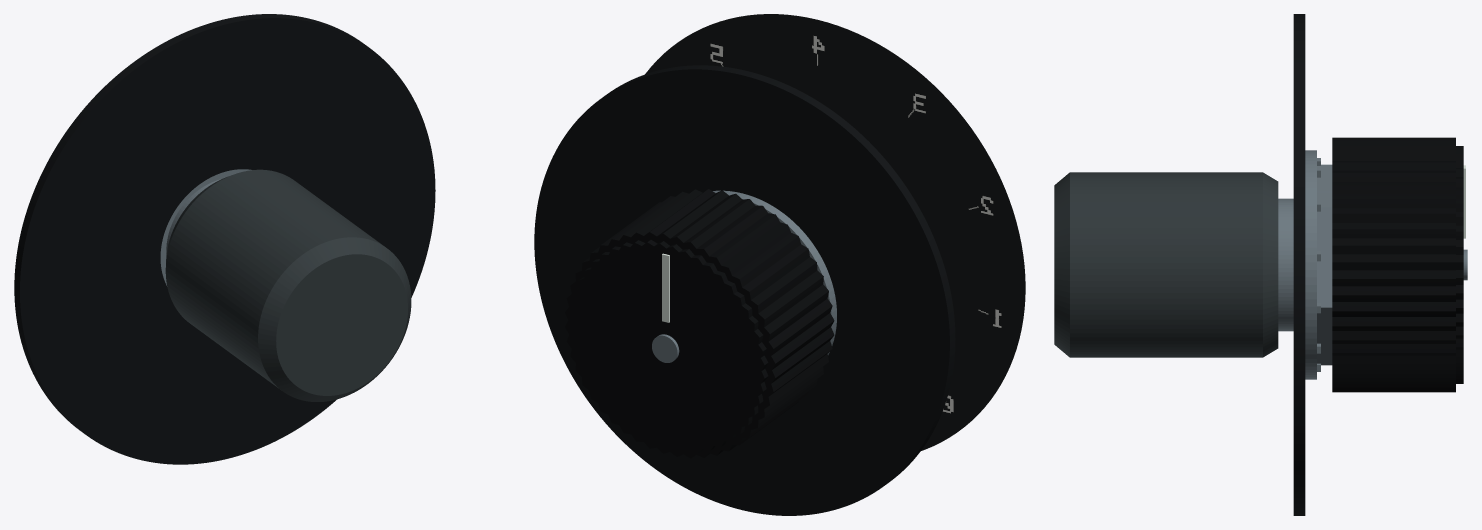
Rendered from MFDStudio.obj.
3 renders of one model, left to right at view 1: azimuth 30°, elevation 25°; view 2: azimuth 150°, elevation 25°; view 3: azimuth 270°, elevation 25°, orthographic. The views are drawn at different scales.
Visible parts, largest first — view 1: MFDStudioBase, MFDStudioBody, MFDStudioMount; view 2: MFDStudioBase, MFDStudioActuatorPlastic, MFDStudioScreen, MFDStudioMount, MFDStudioActuatorMetal; view 3: MFDStudioBody, MFDStudioActuatorPlastic, MFDStudioMount, MFDStudioBase.
Part boxes in pixels (box(x1,y1,x2,y2)): MFDStudioBase: box(14, 14, 435, 464); MFDStudioBody: box(165, 169, 411, 401); MFDStudioMount: box(160, 169, 251, 286); MFDStudioBase: box(534, 65, 955, 515); MFDStudioActuatorPlastic: box(565, 189, 834, 458); MFDStudioScreen: box(645, 14, 1025, 450); MFDStudioMount: box(713, 190, 836, 355); MFDStudioActuatorMetal: box(652, 334, 679, 362); MFDStudioBody: box(1054, 172, 1278, 357); MFDStudioActuatorPlastic: box(1332, 137, 1463, 392); MFDStudioMount: box(1278, 150, 1332, 379); MFDStudioBase: box(1293, 14, 1305, 515).
Bounding box in the file's own units: 0.065 × 0.065 × 0.0535.
Materials: 6 (1 with a texture image).
